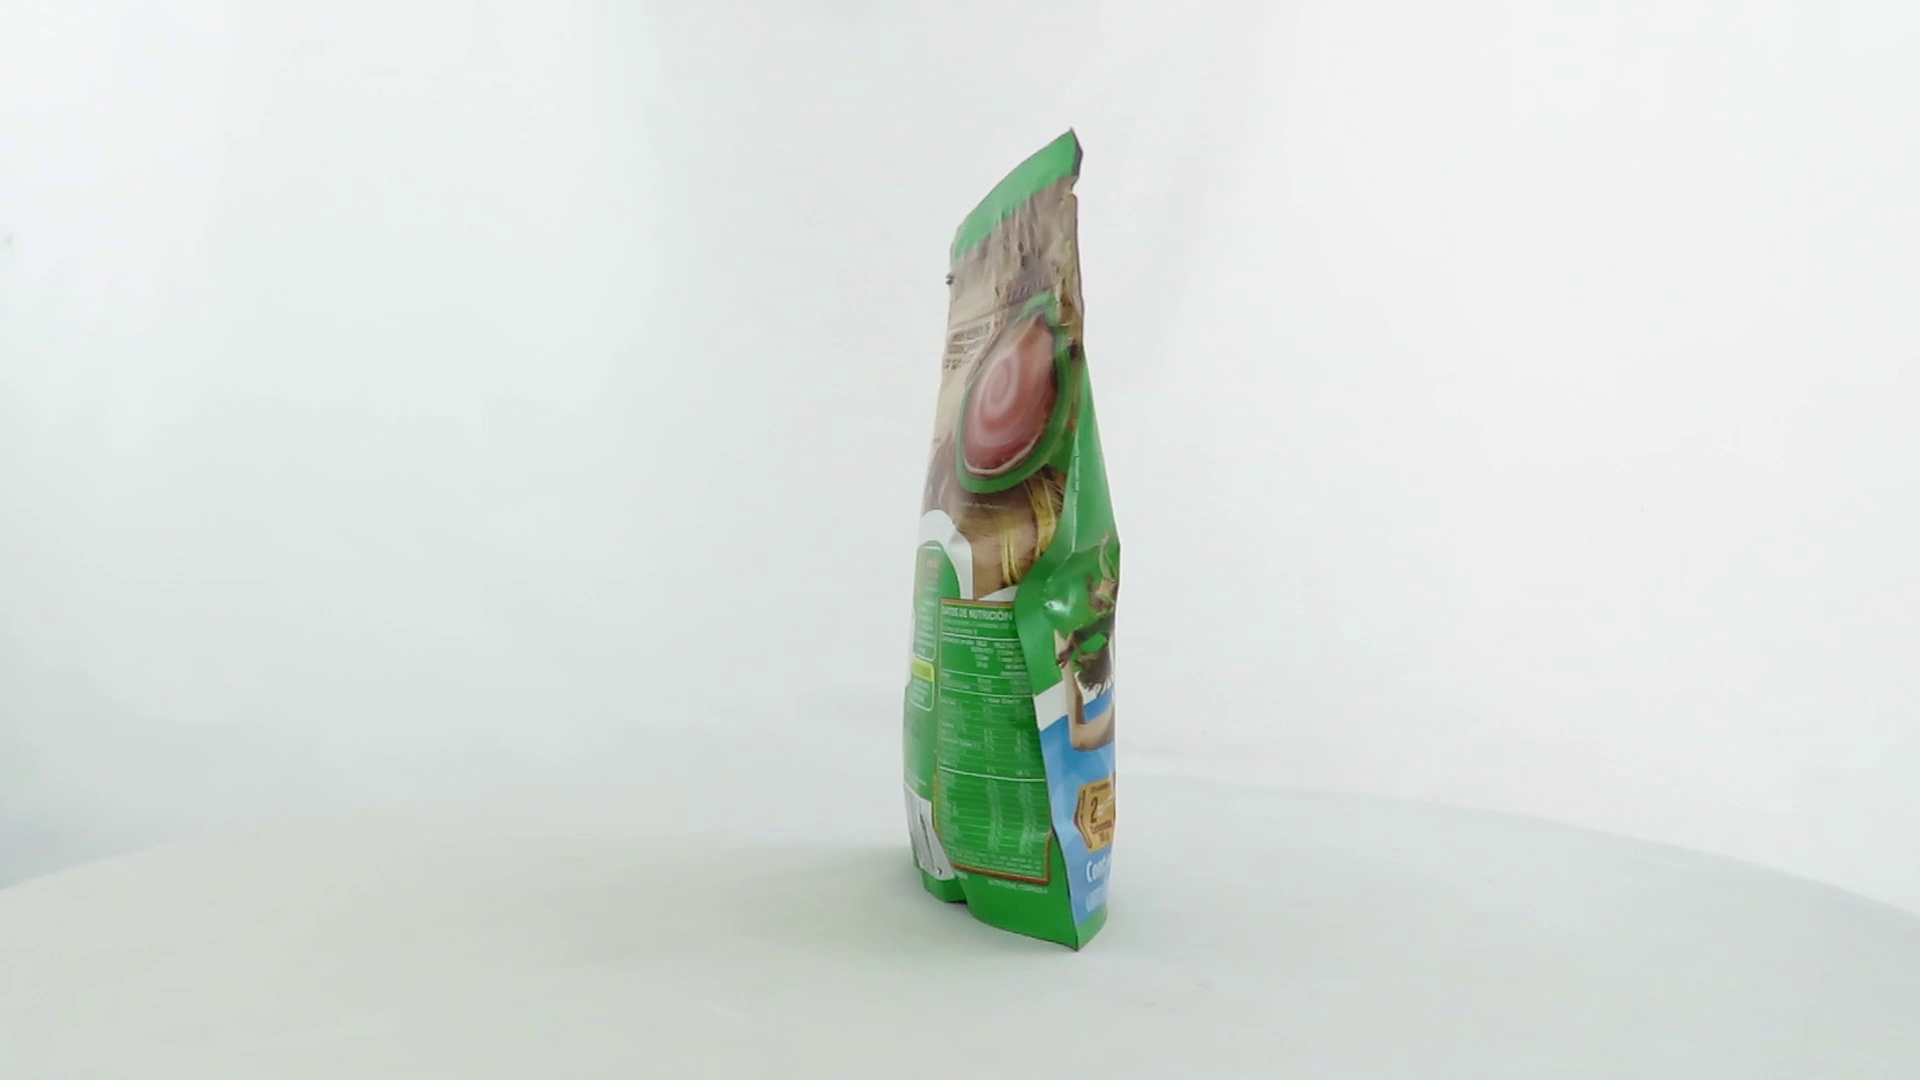COL0170205DYP20000: (897, 123, 1127, 957)
